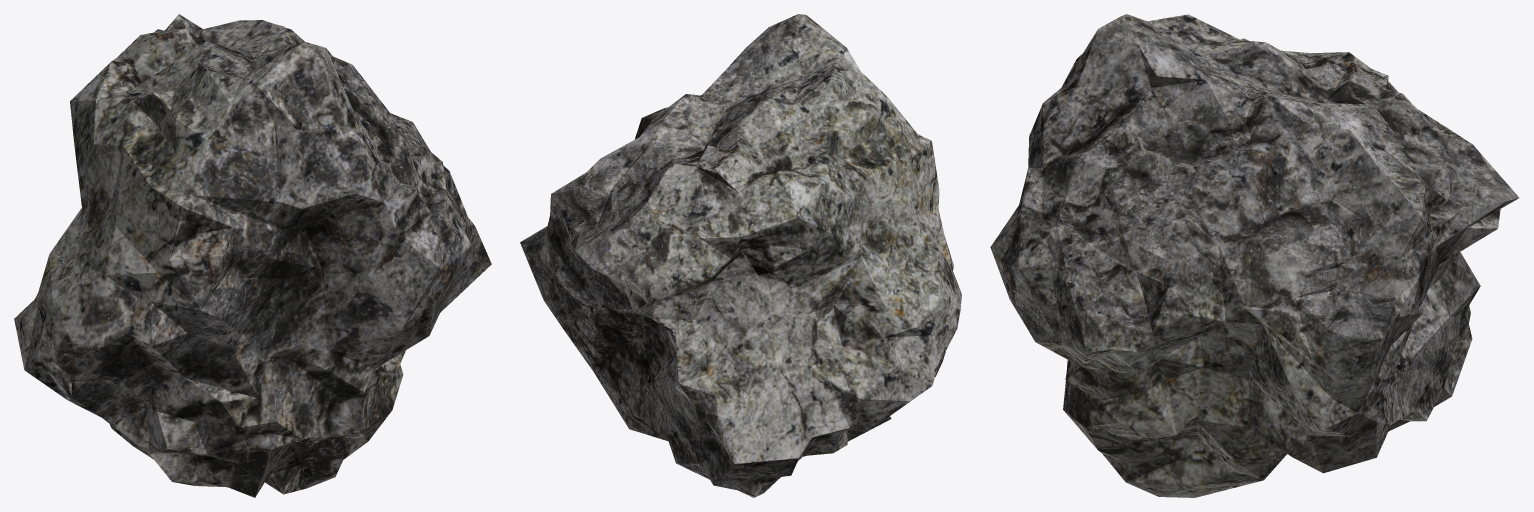
The model's file is ALH84001-55.fbx.
3 views of the same model, side by side, from view 1: azimuth 30°, elevation 25°; view 2: azimuth 150°, elevation 25°; view 3: azimuth 270°, elevation 25° (orthographic). The views are drawn at different scales.
Visible parts, largest first — view 1: ALH84001-55; view 2: ALH84001-55; view 3: ALH84001-55.
Boxes of the visible parts, x1=… form: ALH84001-55: x1=14, y1=14, x2=491, y2=497; ALH84001-55: x1=520, y1=14, x2=961, y2=497; ALH84001-55: x1=990, y1=14, x2=1519, y2=497.
Bounding box in the file's own units: 30.1 × 32.55 × 32.39.
